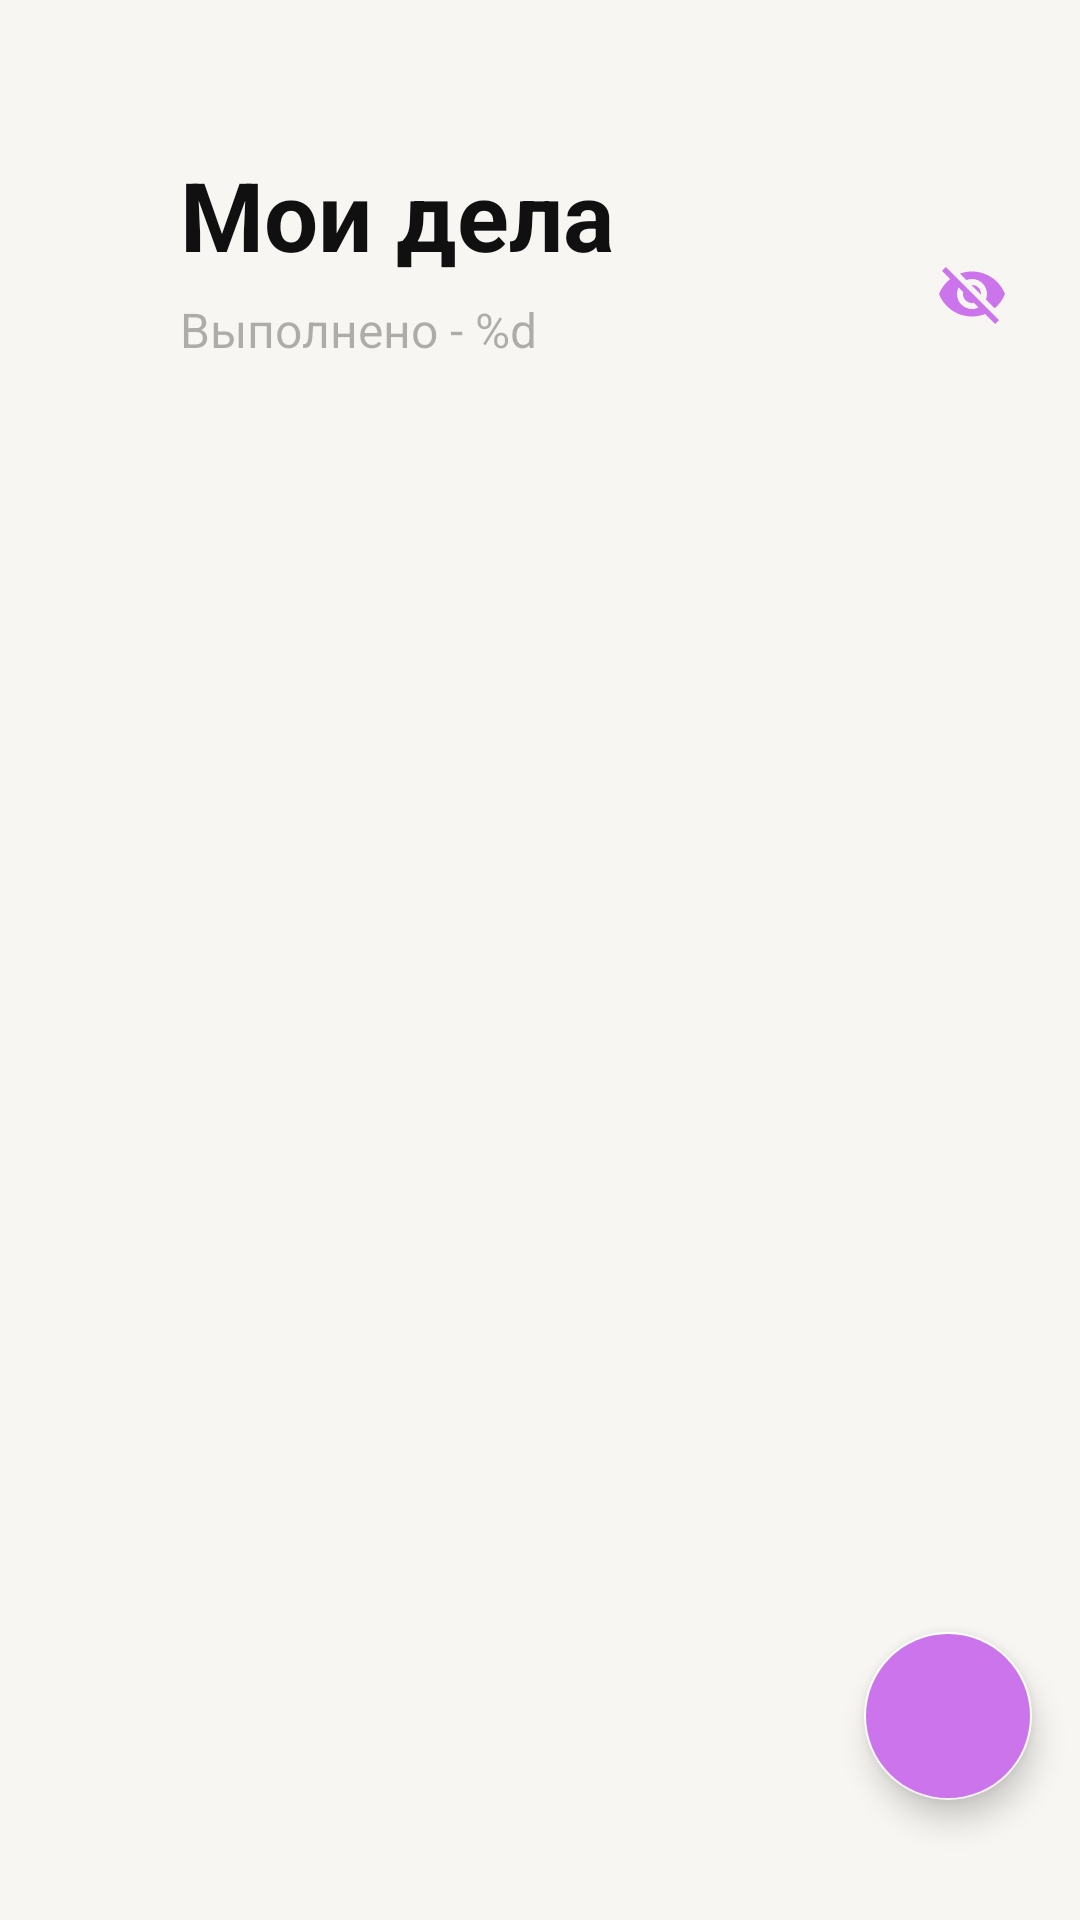

Icon bounding boxes for this 1080px×1920px phone screenshot, format Rect(x1, y1, x2, y2):
Switch visibility: Rect(939, 267, 1005, 324)
